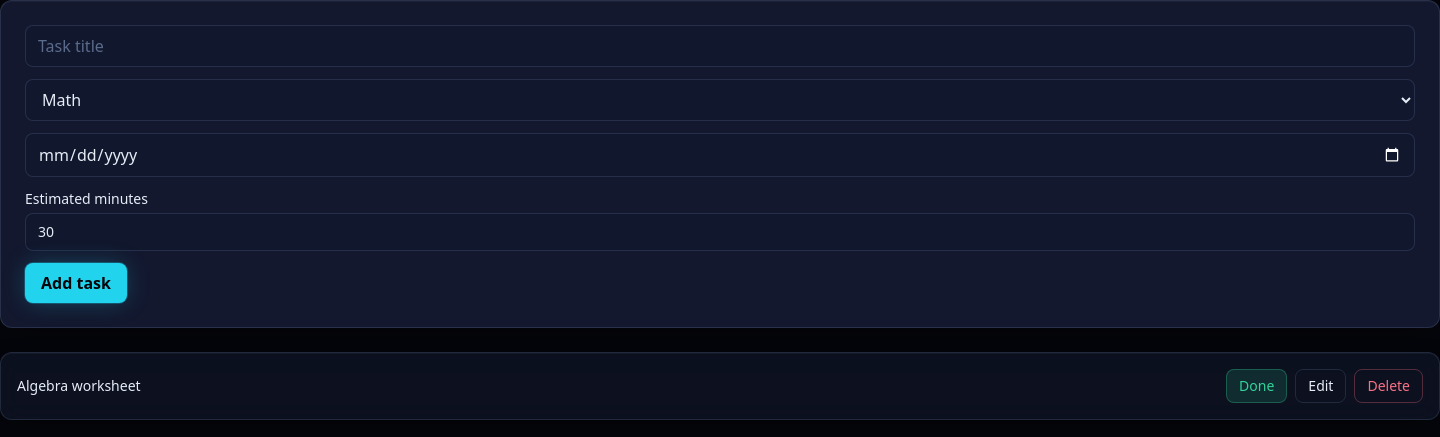
Test case: TaskList › removes a task from the list after deleting it
Click the button with aria-label "delete algebra worksheet". click: {"x": 1389, "y": 386}
box: [1354,369,1423,403]
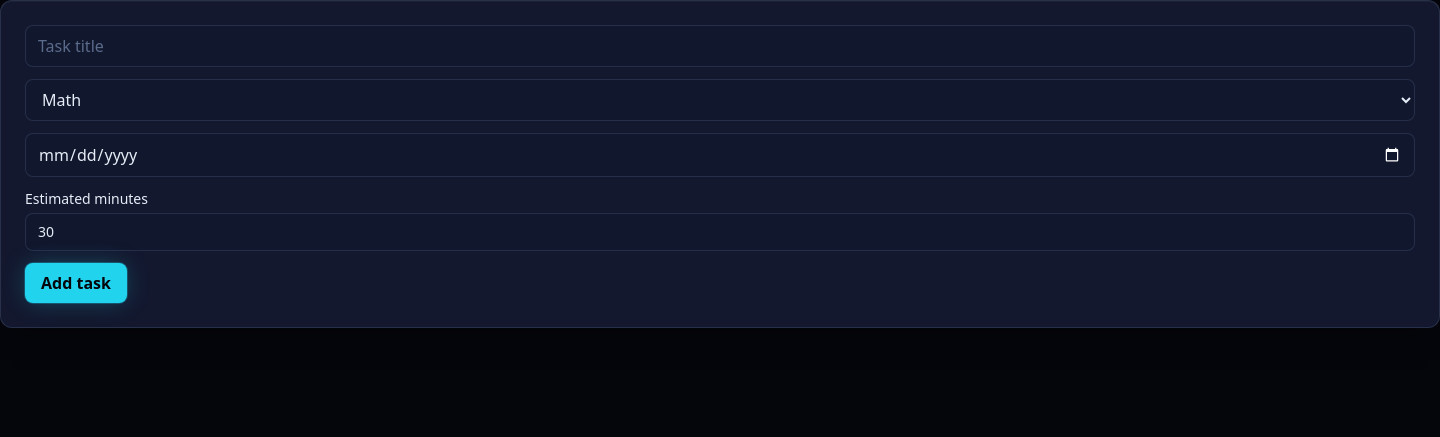
Now the text "Algebra worksheet" is gone
